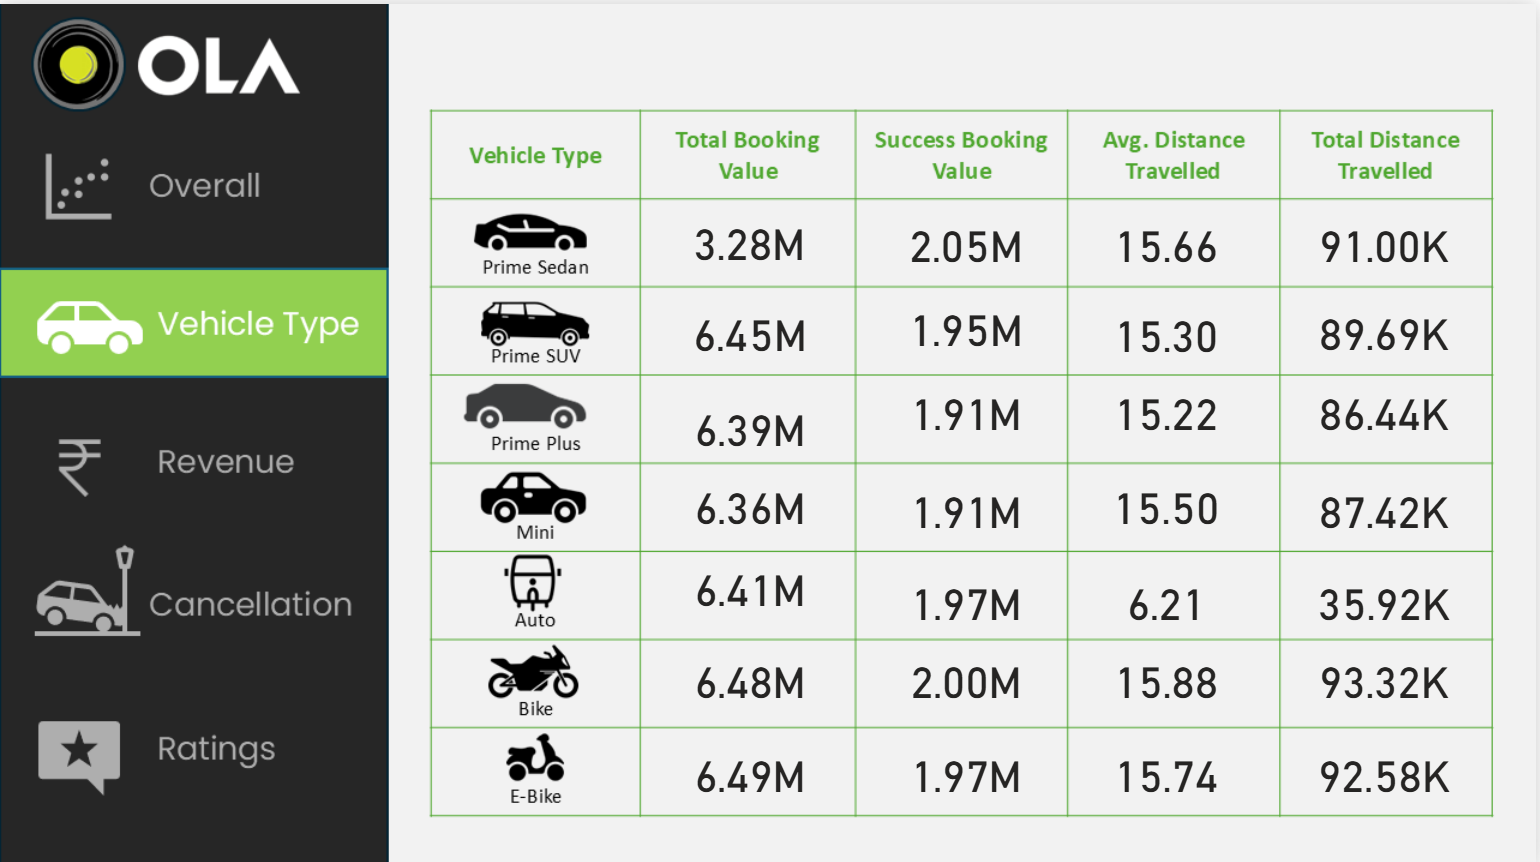

The page's visual inventory and layout, read from the dashboard file:
{"tool":"powerbi","page":{"name":"Vehicle Type","canvas":[1280,720],"ordinal":1},"visuals":[{"type":"actionButton","box":[0,105.6,323.4,92.6],"z":0},{"type":"actionButton","box":[0,338.1,323.4,91],"z":1},{"type":"actionButton","box":[0,453.5,323.4,95.9],"z":2},{"type":"actionButton","box":[0,578.6,323.4,92.6],"z":3},{"type":"card","fields":{"Values":["Sum(Bookings-40000-Rows - July (2).Booking_Value)"]},"box":[541.2,165.8,165.8,65],"z":4},{"type":"card","fields":{"Values":["Sum(Bookings-40000-Rows - July (2).Booking_Value)"]},"box":[541.5,244.3,166.6,56.8],"z":5},{"type":"card","fields":{"Values":["Sum(Bookings-40000-Rows - July (2).Booking_Value)"]},"box":[541.5,320,166.6,64.4],"z":6},{"type":"card","fields":{"Values":["Sum(Bookings-40000-Rows - July (2).Booking_Value)"]},"box":[541.5,384.4,166.6,64.4],"z":7},{"type":"card","fields":{"Values":["Sum(Bookings-40000-Rows - July (2).Booking_Value)"]},"box":[541.5,452.5,166.6,64.4],"z":8},{"type":"card","fields":{"Values":["Sum(Bookings-40000-Rows - July (2).Booking_Value)"]},"box":[541.5,530.2,166.6,64.4],"z":9},{"type":"card","fields":{"Values":["Sum(Bookings-40000-Rows - July (2).Booking_Value)"]},"box":[541.5,607.8,166.6,64.4],"z":10},{"type":"card","fields":{"Values":["Sum(Bookings-40000-Rows - July (2).Booking_Value)"]},"box":[721.4,166.6,166.6,64.4],"z":11},{"type":"card","fields":{"Values":["Sum(Bookings-40000-Rows - July (2).Booking_Value)"]},"box":[721.4,236.7,166.6,64.4],"z":12},{"type":"card","fields":{"Values":["Sum(Bookings-40000-Rows - July (2).Booking_Value)"]},"box":[721.4,306.7,166.6,64.4],"z":13},{"type":"card","fields":{"Values":["Sum(Bookings-40000-Rows - July (2).Booking_Value)"]},"box":[721.4,388.2,166.6,64.4],"z":14},{"type":"card","fields":{"Values":["Sum(Bookings-40000-Rows - July (2).Booking_Value)"]},"box":[721.4,465.8,166.6,64.4],"z":15},{"type":"card","fields":{"Values":["Sum(Bookings-40000-Rows - July (2).Booking_Value)"]},"box":[721.4,530.2,166.6,64.4],"z":16},{"type":"card","fields":{"Values":["Sum(Bookings-40000-Rows - July (2).Booking_Value)"]},"box":[721.4,607.8,166.6,64.4],"z":17},{"type":"card","fields":{"Values":["Avg(Bookings-40000-Rows - July (2).Ride_Distance)"]},"box":[888,166.6,166.6,64.4],"z":18},{"type":"card","fields":{"Values":["Avg(Bookings-40000-Rows - July (2).Ride_Distance)"]},"box":[888,242.4,166.6,64.4],"z":19},{"type":"card","fields":{"Values":["Avg(Bookings-40000-Rows - July (2).Ride_Distance)"]},"box":[888,306.7,166.6,64.4],"z":20},{"type":"card","fields":{"Values":["Avg(Bookings-40000-Rows - July (2).Ride_Distance)"]},"box":[888,384.4,166.6,64.4],"z":21},{"type":"card","fields":{"Values":["Avg(Bookings-40000-Rows - July (2).Ride_Distance)"]},"box":[888,465.8,166.6,64.4],"z":22},{"type":"card","fields":{"Values":["Avg(Bookings-40000-Rows - July (2).Ride_Distance)"]},"box":[888,530.2,166.6,64.4],"z":23},{"type":"card","fields":{"Values":["Avg(Bookings-40000-Rows - July (2).Ride_Distance)"]},"box":[888,607.8,166.6,64.4],"z":24},{"type":"card","fields":{"Values":["Sum(Bookings-40000-Rows - July (2).Ride_Distance)"]},"box":[1069.8,166.6,166.6,64.4],"z":27},{"type":"card","fields":{"Values":["Sum(Bookings-40000-Rows - July (2).Ride_Distance)"]},"box":[1069.8,240.5,166.6,64.4],"z":28},{"type":"card","fields":{"Values":["Sum(Bookings-40000-Rows - July (2).Ride_Distance)"]},"box":[1069.8,306.7,166.6,64.4],"z":29},{"type":"card","fields":{"Values":["Sum(Bookings-40000-Rows - July (2).Ride_Distance)"]},"box":[1069.8,388.2,166.6,64.4],"z":30},{"type":"card","fields":{"Values":["Sum(Bookings-40000-Rows - July (2).Ride_Distance)"]},"box":[1069.8,465.8,166.6,64.4],"z":31},{"type":"card","fields":{"Values":["Sum(Bookings-40000-Rows - July (2).Ride_Distance)"]},"box":[1069.8,530.2,166.6,64.4],"z":32},{"type":"card","fields":{"Values":["Sum(Bookings-40000-Rows - July (2).Ride_Distance)"]},"box":[1069.8,607.8,166.6,64.4],"z":33}]}

Visuals, with their boxes in screenshot pixels (x1, y1, x2, y2), scaled from the page's 1280x720 canvas onto the 1540x862 screenshot:
actionButton: <bbox>0, 126, 389, 237</bbox>
actionButton: <bbox>0, 405, 389, 514</bbox>
actionButton: <bbox>0, 543, 389, 658</bbox>
actionButton: <bbox>0, 693, 389, 804</bbox>
card - Sum(Bookings-40000-Rows - July (2).Booking_Value): <bbox>651, 198, 851, 276</bbox>
card - Sum(Bookings-40000-Rows - July (2).Booking_Value): <bbox>651, 292, 852, 360</bbox>
card - Sum(Bookings-40000-Rows - July (2).Booking_Value): <bbox>651, 383, 852, 460</bbox>
card - Sum(Bookings-40000-Rows - July (2).Booking_Value): <bbox>651, 460, 852, 537</bbox>
card - Sum(Bookings-40000-Rows - July (2).Booking_Value): <bbox>651, 542, 852, 619</bbox>
card - Sum(Bookings-40000-Rows - July (2).Booking_Value): <bbox>651, 635, 852, 712</bbox>
card - Sum(Bookings-40000-Rows - July (2).Booking_Value): <bbox>651, 728, 852, 805</bbox>
card - Sum(Bookings-40000-Rows - July (2).Booking_Value): <bbox>868, 199, 1068, 277</bbox>
card - Sum(Bookings-40000-Rows - July (2).Booking_Value): <bbox>868, 283, 1068, 360</bbox>
card - Sum(Bookings-40000-Rows - July (2).Booking_Value): <bbox>868, 367, 1068, 444</bbox>
card - Sum(Bookings-40000-Rows - July (2).Booking_Value): <bbox>868, 465, 1068, 542</bbox>
card - Sum(Bookings-40000-Rows - July (2).Booking_Value): <bbox>868, 558, 1068, 635</bbox>
card - Sum(Bookings-40000-Rows - July (2).Booking_Value): <bbox>868, 635, 1068, 712</bbox>
card - Sum(Bookings-40000-Rows - July (2).Booking_Value): <bbox>868, 728, 1068, 805</bbox>
card - Avg(Bookings-40000-Rows - July (2).Ride_Distance): <bbox>1068, 199, 1269, 277</bbox>
card - Avg(Bookings-40000-Rows - July (2).Ride_Distance): <bbox>1068, 290, 1269, 367</bbox>
card - Avg(Bookings-40000-Rows - July (2).Ride_Distance): <bbox>1068, 367, 1269, 444</bbox>
card - Avg(Bookings-40000-Rows - July (2).Ride_Distance): <bbox>1068, 460, 1269, 537</bbox>
card - Avg(Bookings-40000-Rows - July (2).Ride_Distance): <bbox>1068, 558, 1269, 635</bbox>
card - Avg(Bookings-40000-Rows - July (2).Ride_Distance): <bbox>1068, 635, 1269, 712</bbox>
card - Avg(Bookings-40000-Rows - July (2).Ride_Distance): <bbox>1068, 728, 1269, 805</bbox>
card - Sum(Bookings-40000-Rows - July (2).Ride_Distance): <bbox>1287, 199, 1488, 277</bbox>
card - Sum(Bookings-40000-Rows - July (2).Ride_Distance): <bbox>1287, 288, 1488, 365</bbox>
card - Sum(Bookings-40000-Rows - July (2).Ride_Distance): <bbox>1287, 367, 1488, 444</bbox>
card - Sum(Bookings-40000-Rows - July (2).Ride_Distance): <bbox>1287, 465, 1488, 542</bbox>
card - Sum(Bookings-40000-Rows - July (2).Ride_Distance): <bbox>1287, 558, 1488, 635</bbox>
card - Sum(Bookings-40000-Rows - July (2).Ride_Distance): <bbox>1287, 635, 1488, 712</bbox>
card - Sum(Bookings-40000-Rows - July (2).Ride_Distance): <bbox>1287, 728, 1488, 805</bbox>
